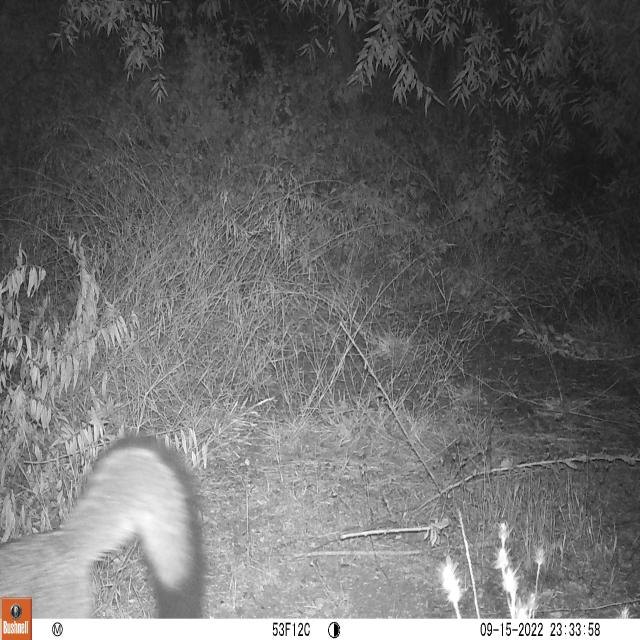Fox: (2, 431, 213, 614)
